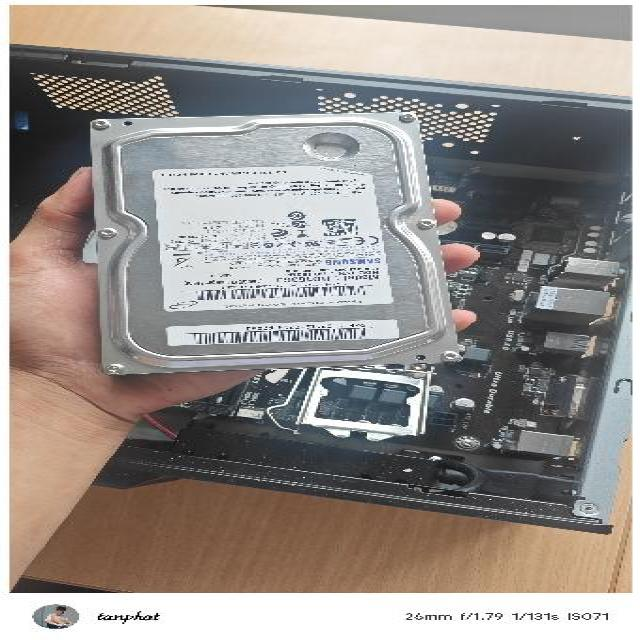DISK: (79, 109, 465, 378)
